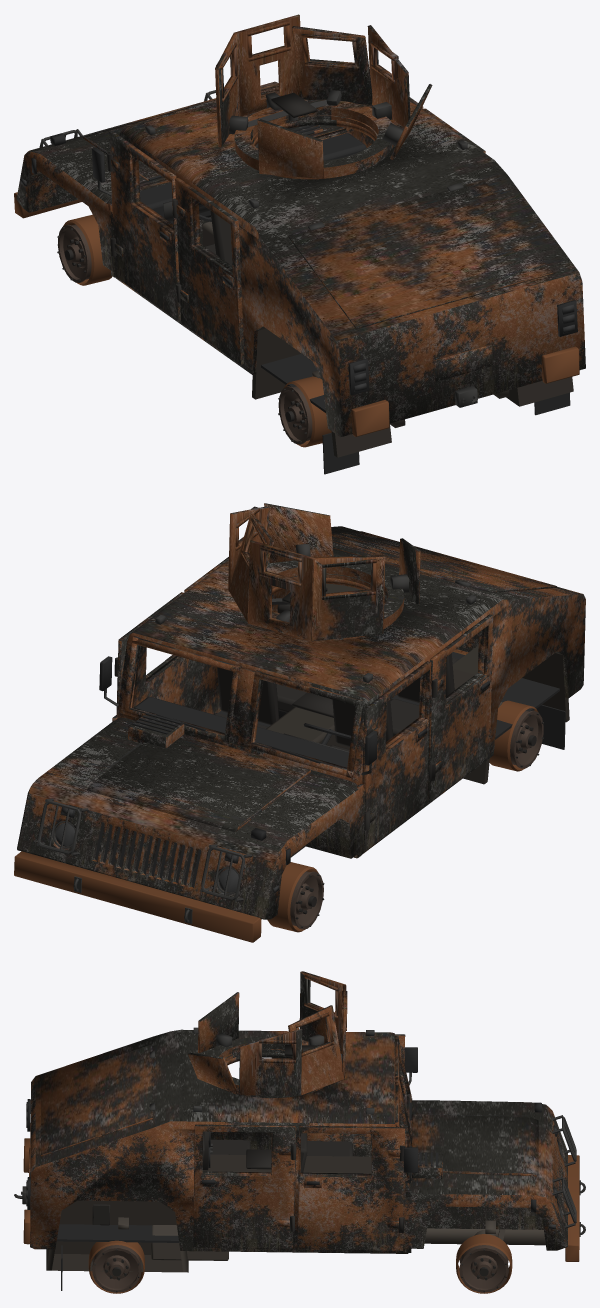
The model's file is m1114_wreck.glb.
The picture shows the model from 3 angles, top to bottom: view 1: azimuth 30°, elevation 25°; view 2: azimuth 150°, elevation 25°; view 3: azimuth 270°, elevation 25°; orthographic projection. The views are drawn at different scales.
Visible parts, largest first — view 1: body; view 2: body; view 3: body.
Boxes of the visible parts, x1,y1,x2,y2 form: body: [14, 14, 585, 474]; body: [14, 503, 585, 942]; body: [14, 971, 585, 1293].
Bounding box in the file's own units: 2.34 × 2.47 × 5.14.
Materials: 9 (1 with a texture image).
